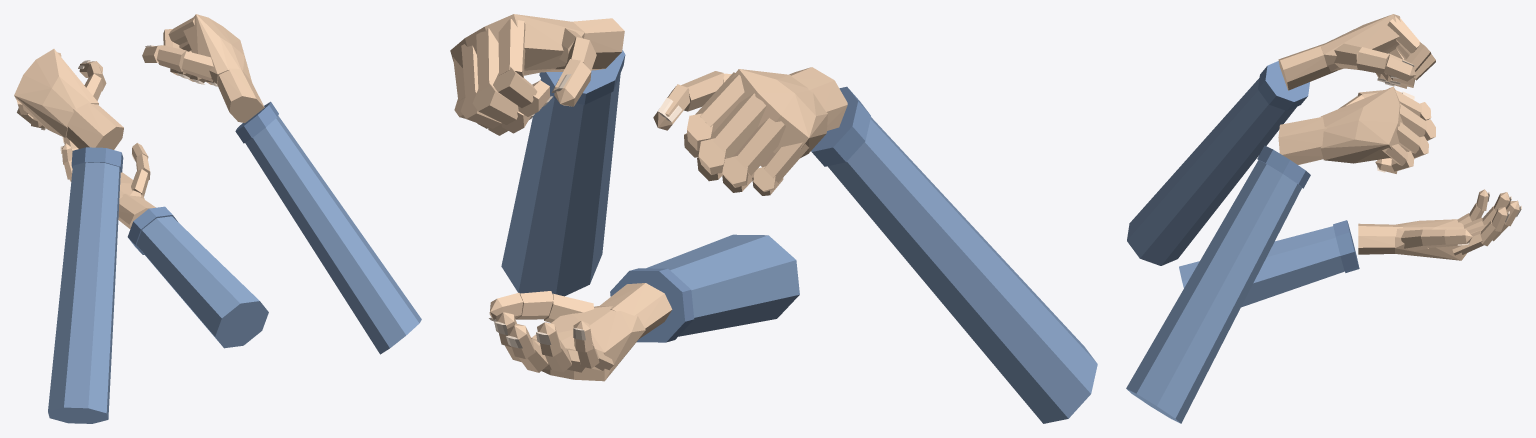
File: manos.glb
The picture shows the model from 3 angles, left to right: view 1: azimuth 30°, elevation 25°; view 2: azimuth 150°, elevation 25°; view 3: azimuth 270°, elevation 25°; orthographic projection. The views are drawn at different scales.
Visible parts, largest first — view 1: manos_volante_manga_azul, manos_volante_piel, mano_sostener_manga_azul, mano_sostener_piel, manos_volante_puno_azul, mano_sostener_puno_azul; view 2: manos_volante_manga_azul, manos_volante_piel, mano_sostener_piel, mano_sostener_manga_azul, manos_volante_puno_azul, mano_sostener_puno_azul, mano_sostener_una; view 3: manos_volante_manga_azul, manos_volante_piel, mano_sostener_piel, mano_sostener_manga_azul, manos_volante_puno_azul, mano_sostener_puno_azul.
Part boxes in pixels (x1,y1,x2,y2): manos_volante_manga_azul: (48,115,421,423); manos_volante_piel: (14,14,264,149); mano_sostener_manga_azul: (136,216,268,348); mano_sostener_piel: (61,137,155,228); manos_volante_puno_azul: (71,101,278,172); mano_sostener_puno_azul: (127,206,177,254); manos_volante_manga_azul: (501,74,1097,423); manos_volante_piel: (450,14,847,195); mano_sostener_piel: (489,283,672,381); mano_sostener_manga_azul: (646,234,799,336); manos_volante_puno_azul: (539,50,870,166); mano_sostener_puno_azul: (610,268,694,342); mano_sostener_una: (489,317,585,348); manos_volante_manga_azul: (1126,78,1301,423); manos_volante_piel: (1278,14,1435,173); mano_sostener_piel: (1358,189,1519,260); mano_sostener_manga_azul: (1179,226,1344,307); manos_volante_puno_azul: (1257,61,1310,188); mano_sostener_puno_azul: (1333,220,1359,272).
Size of the model in its own units: 0.4114 by 0.2964 by 0.3651.
